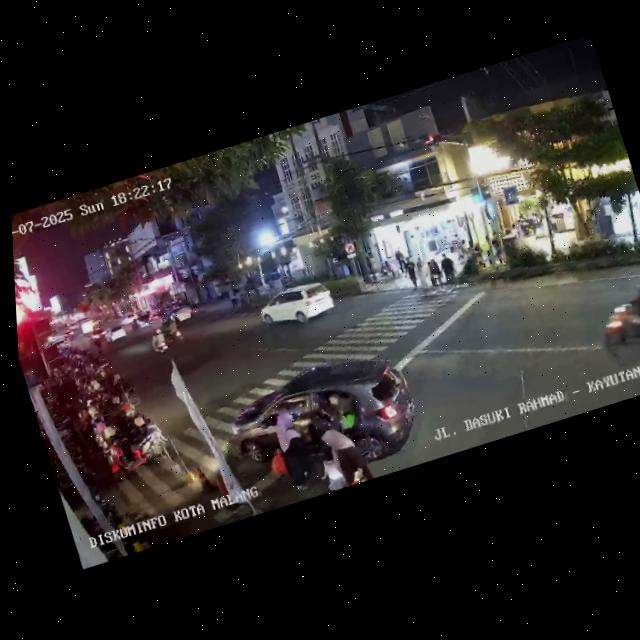car: (214, 337, 431, 503), (252, 274, 340, 341), (166, 301, 196, 327), (102, 323, 128, 346), (128, 314, 153, 333), (119, 309, 139, 326)
motorcycle: (588, 276, 640, 364), (158, 316, 186, 351), (147, 324, 170, 357)
person: (269, 405, 320, 500), (311, 417, 372, 492), (436, 251, 463, 294), (398, 254, 422, 292), (427, 257, 446, 294), (413, 254, 432, 291), (425, 260, 437, 287), (393, 249, 405, 273), (459, 238, 470, 259), (397, 249, 407, 272), (635, 203, 640, 235)
